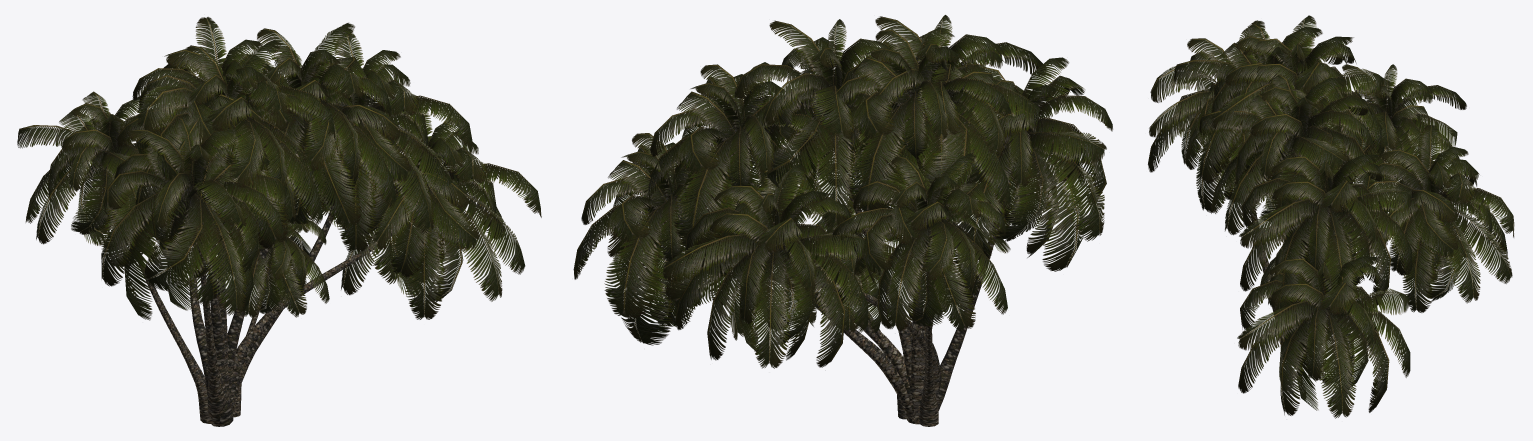
File: tropical-palms.glb
3 views of the same model, side by side, from view 1: azimuth 30°, elevation 25°; view 2: azimuth 150°, elevation 25°; view 3: azimuth 270°, elevation 25° (orthographic). The views are drawn at different scales.
Visible parts, largest first — view 1: tropical_palms_e, tropical_palms_b, tropical_palms_c, tropical_palms_a, tropical_palms_d; view 2: tropical_palms_e, tropical_palms_c, tropical_palms_d, tropical_palms_a, tropical_palms_b; view 3: tropical_palms_c, tropical_palms_e, tropical_palms_a, tropical_palms_b, tropical_palms_d.
Part boxes in pixels (x1,y1,x2,y2): tropical_palms_e: (17,22,396,426); tropical_palms_b: (117,39,329,417); tropical_palms_c: (129,68,541,426); tropical_palms_a: (231,30,473,413); tropical_palms_d: (132,17,335,391); tropical_palms_e: (734,19,1112,426); tropical_palms_c: (573,131,941,424); tropical_palms_d: (817,27,1031,415); tropical_palms_a: (643,62,915,423); tropical_palms_b: (785,15,1047,424); tropical_palms_c: (1237,125,1514,418); tropical_palms_e: (1148,20,1466,317); tropical_palms_a: (1239,133,1412,349); tropical_palms_b: (1174,23,1364,363); tropical_palms_d: (1211,15,1383,194).
Size of the model in its own units: 13.7 by 10.8 by 11.
1 material, 1 textured.
